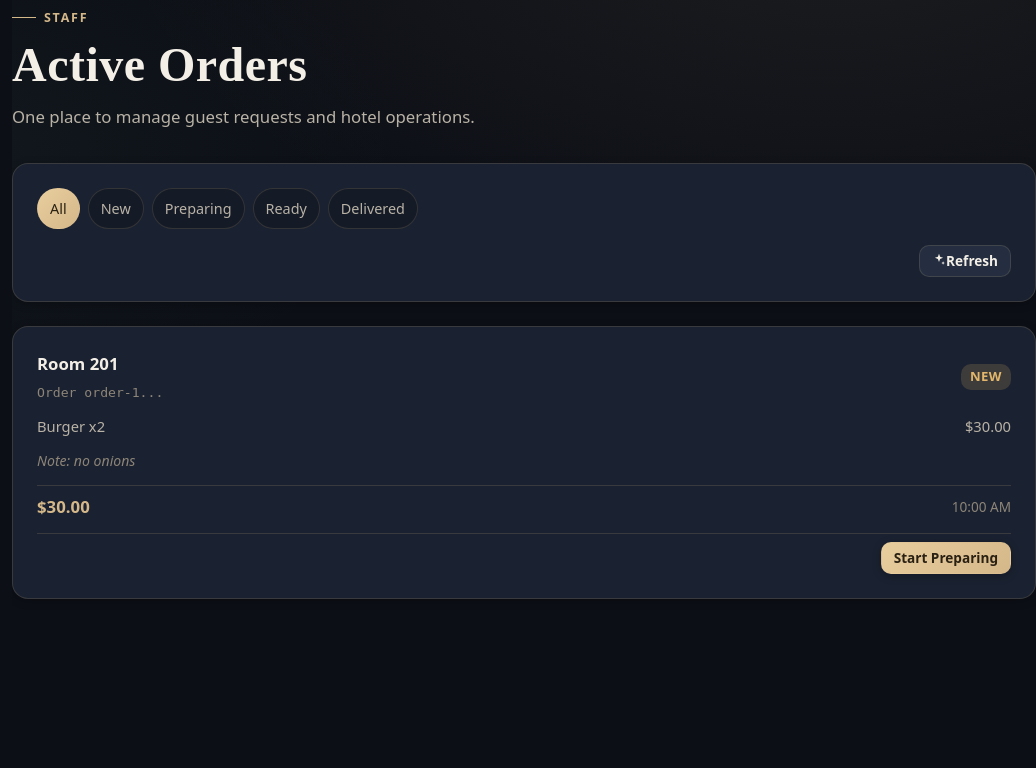
Test: StaffOrdersView › filters orders by status when filter is clicked
Expected: the text "Burger x2" is shown, [37,415,105,438]
What coordinates should you click on to do the following:
click the button "Preparing"
I would click on:
 (198, 209)
Its box is [152,188,244,229].
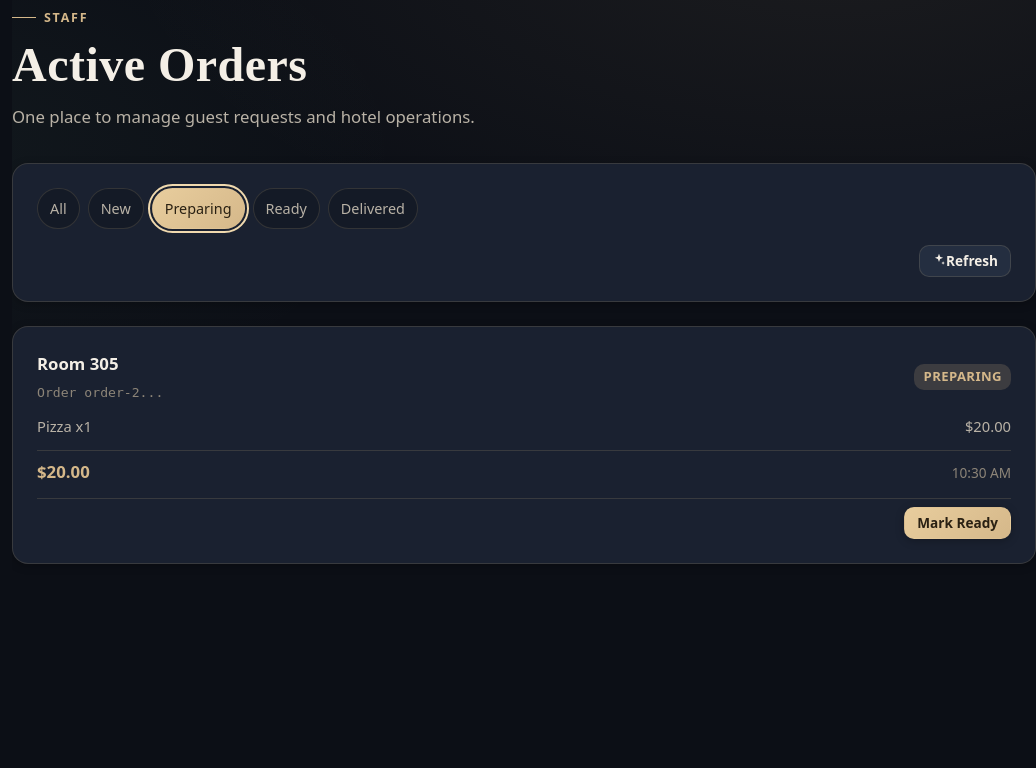
Expected: the text "Pizza x1" is shown, [37,415,92,438]
